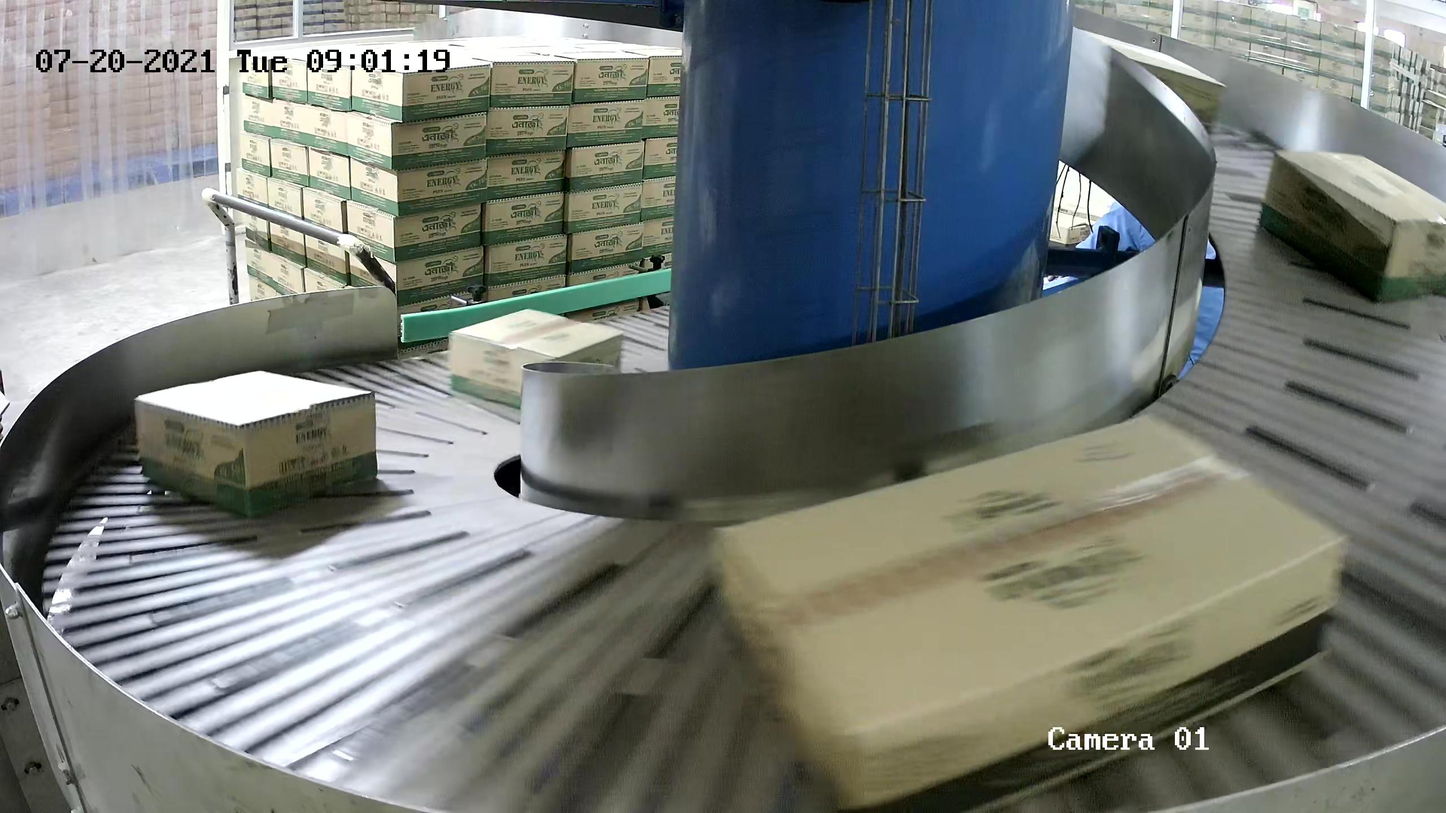Box: (704, 406, 1352, 813), (132, 369, 379, 518), (1258, 148, 1446, 305), (447, 307, 625, 409)
